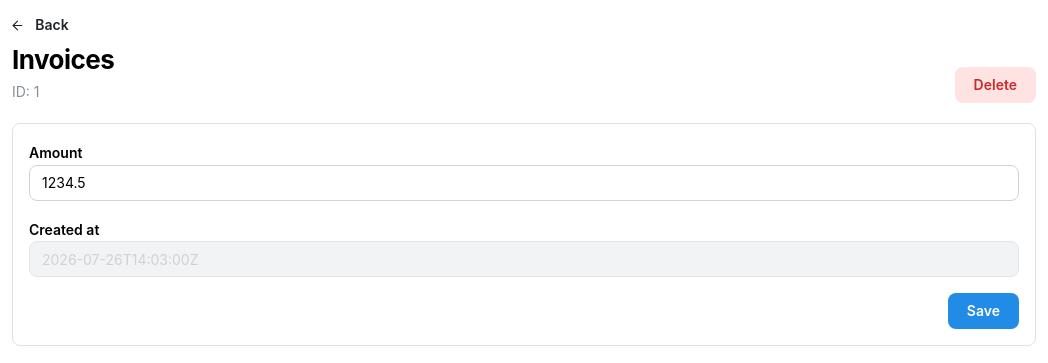
Test case: saving a detail row › reports a rejection that is not an Error at all
This screenshot has width=1048, height=363.
Expected: the field showing "1234.5" is shown, [29,165,1019,201]
Click the button "Save": (983, 311) [948,293,1019,329]
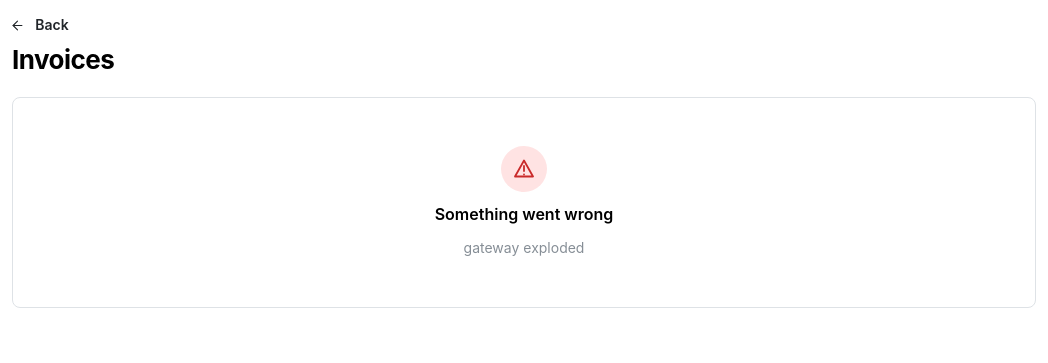
Expected: the text "gateway exploded" is shown, [464,237,584,259]
